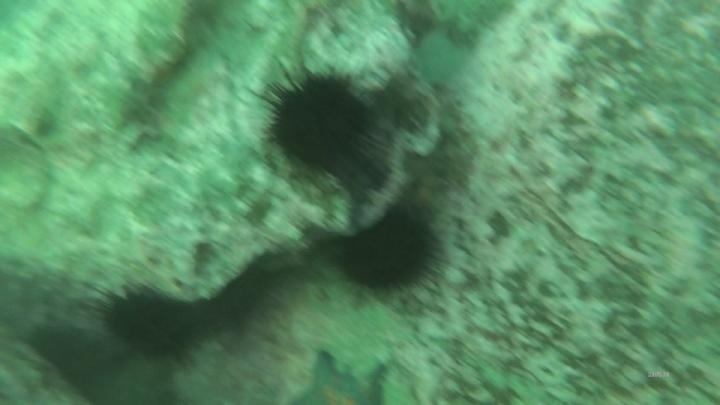echinus: (255, 60, 385, 181), (334, 202, 445, 301), (93, 279, 205, 365), (207, 261, 280, 333)
starfish: (279, 346, 394, 404)
